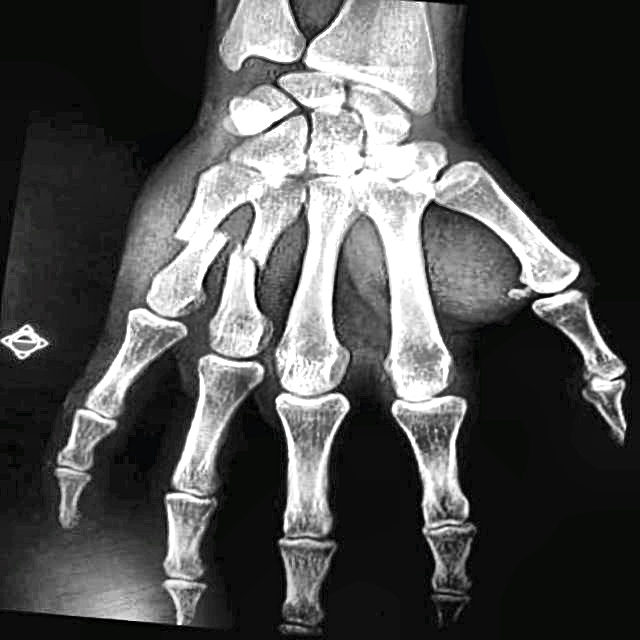Transverse: (156, 192, 232, 279)
Transverse Displaced: (214, 224, 297, 296)
